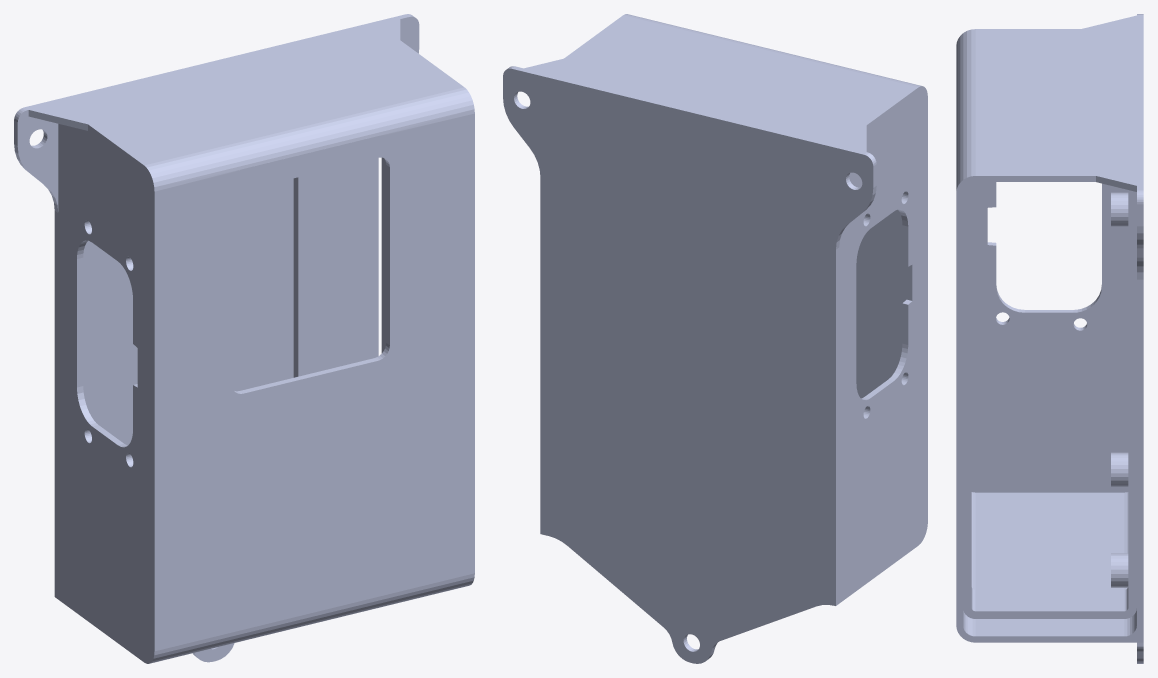
File: RSM_Enclosure_Outside.glb
The picture shows the model from 3 angles, left to right: view 1: azimuth 30°, elevation 25°; view 2: azimuth 150°, elevation 25°; view 3: azimuth 270°, elevation 25°; orthographic projection. The views are drawn at different scales.
Parts seen in each view (by area): view 1: world; view 2: world; view 3: world.
Boxes of the visible parts, x1=… form: world: x1=14, y1=14, x2=474, y2=663; world: x1=503, y1=14, x2=927, y2=663; world: x1=956, y1=14, x2=1143, y2=663.
Size of the model in its own units: 101 by 144 by 43.7.
